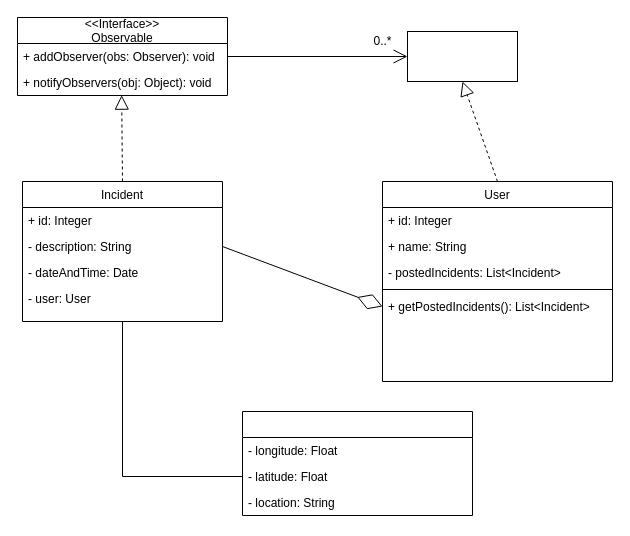
Some shapes in this 630 by 536 pixel diagram are drawn without their labels. The box of each missing label's shape, as (x1, y1, x2, y2) in pixels:
Marker: (242, 410, 472, 516)
«interface» Observer: (406, 30, 518, 82)
